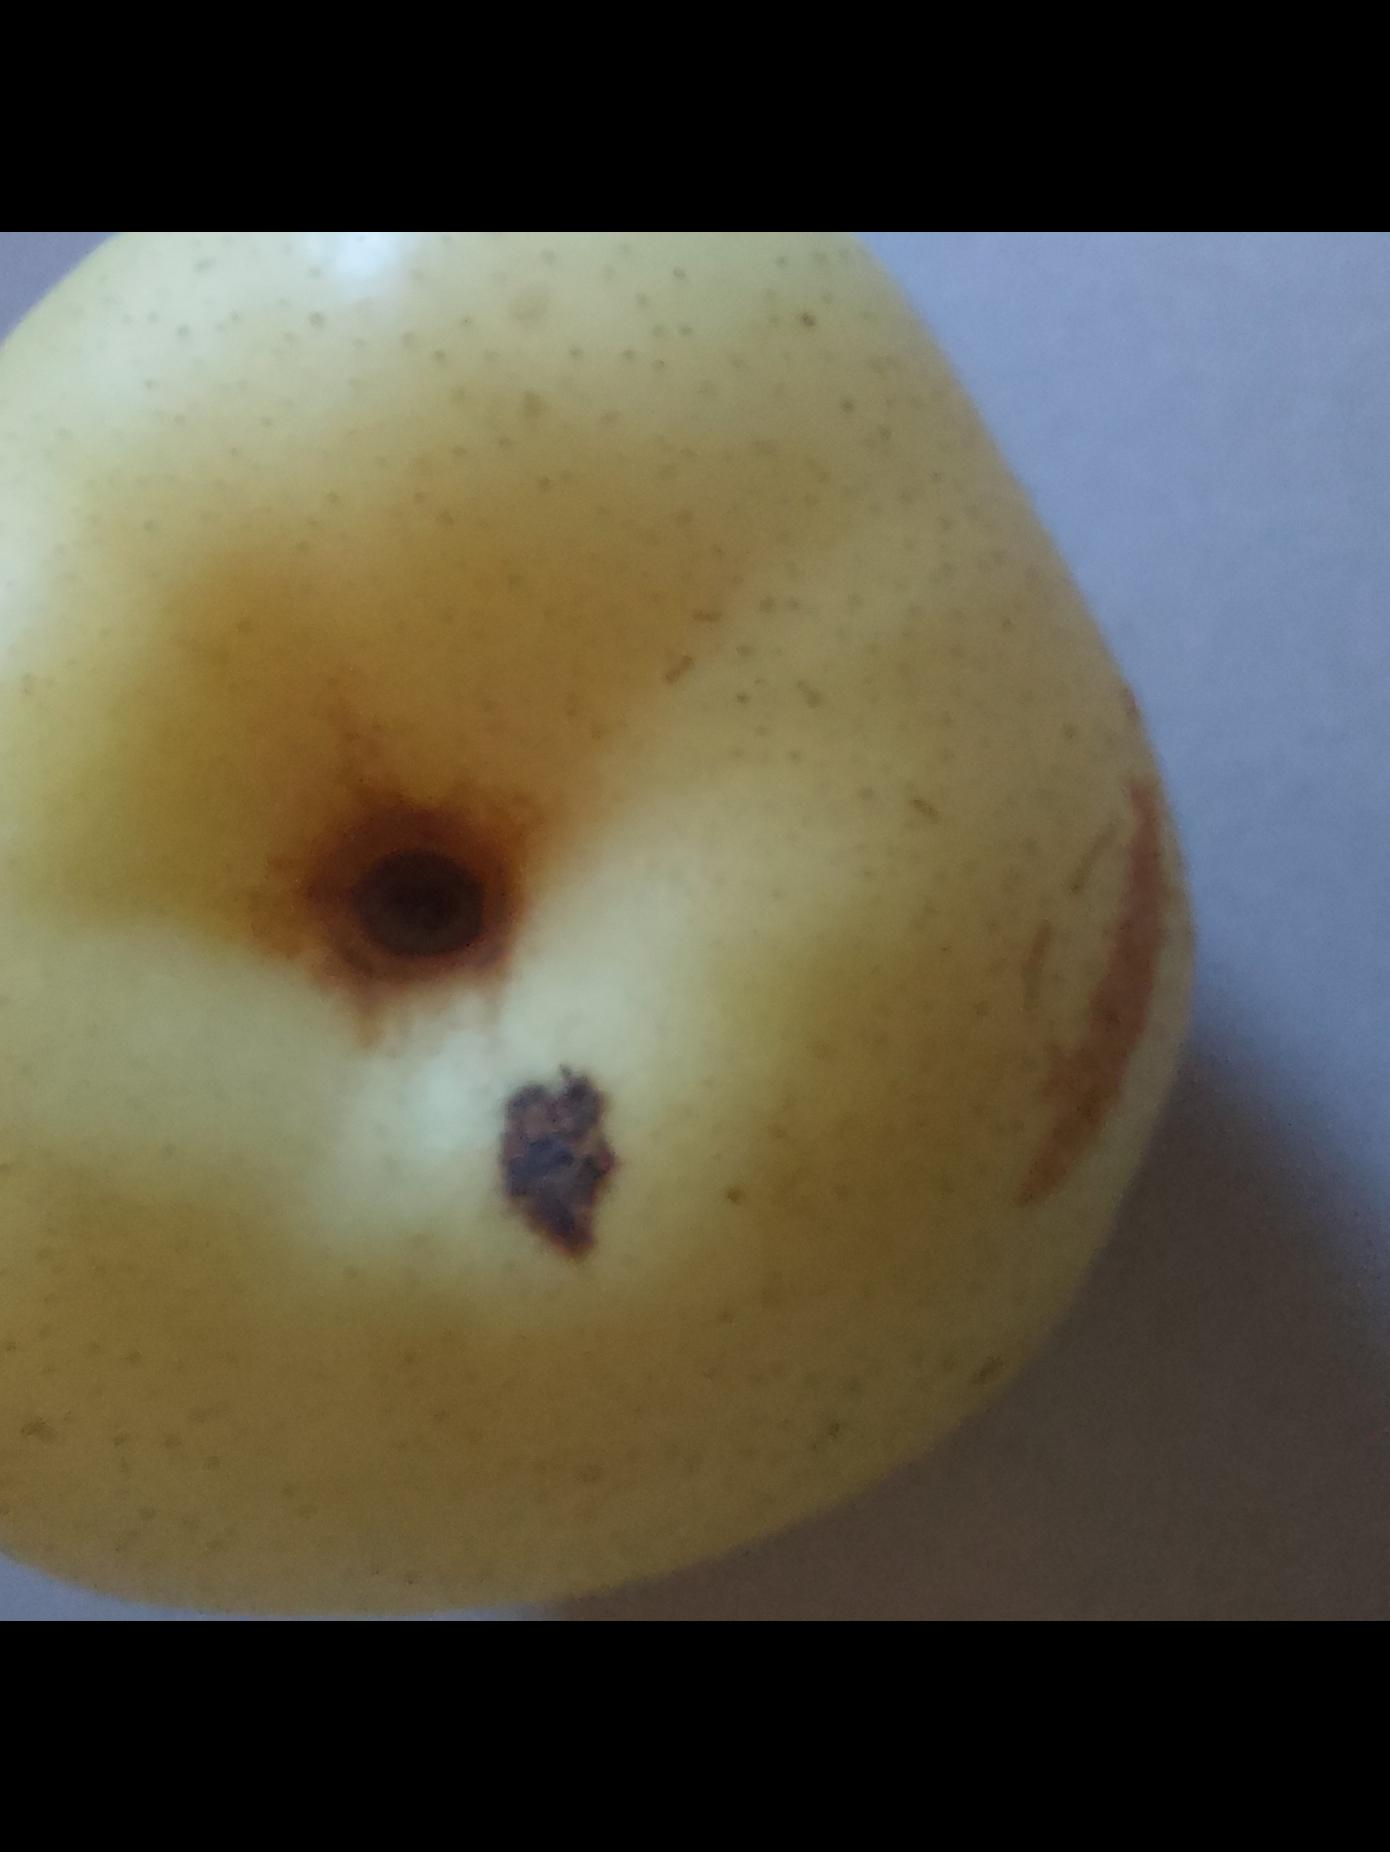Good Pear: (0, 231, 1316, 1621)
